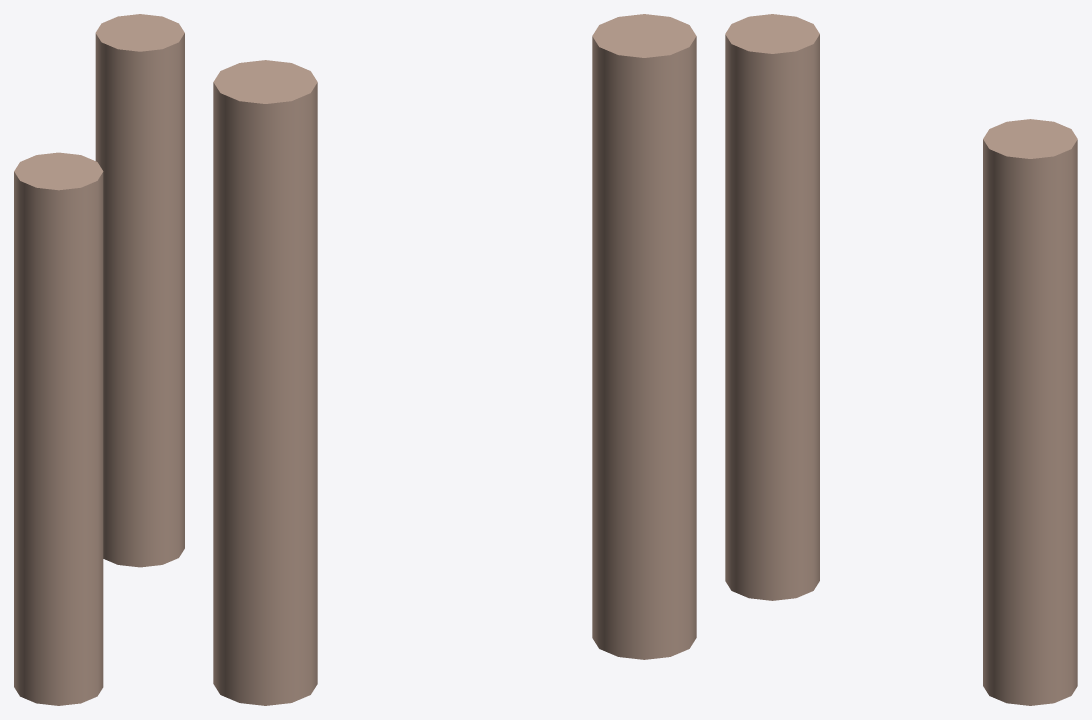
The model's file is Pillar_07C.fbx.
The picture shows the model from 3 angles, left to right: view 1: azimuth 30°, elevation 25°; view 2: azimuth 150°, elevation 25°; view 3: azimuth 270°, elevation 25°; orthographic projection. The views are drawn at different scales.
Visible parts, largest first — view 1: Pillar_07C; view 2: Pillar_07C; view 3: Pillar_07C.
Boxes of the visible parts, bbox=[...] form: Pillar_07C: bbox=[14, 14, 184, 705]; Pillar_07C: bbox=[213, 14, 696, 705]; Pillar_07C: bbox=[725, 14, 1077, 705].
Size of the model in its own units: 85.37 by 150 by 87.67.
